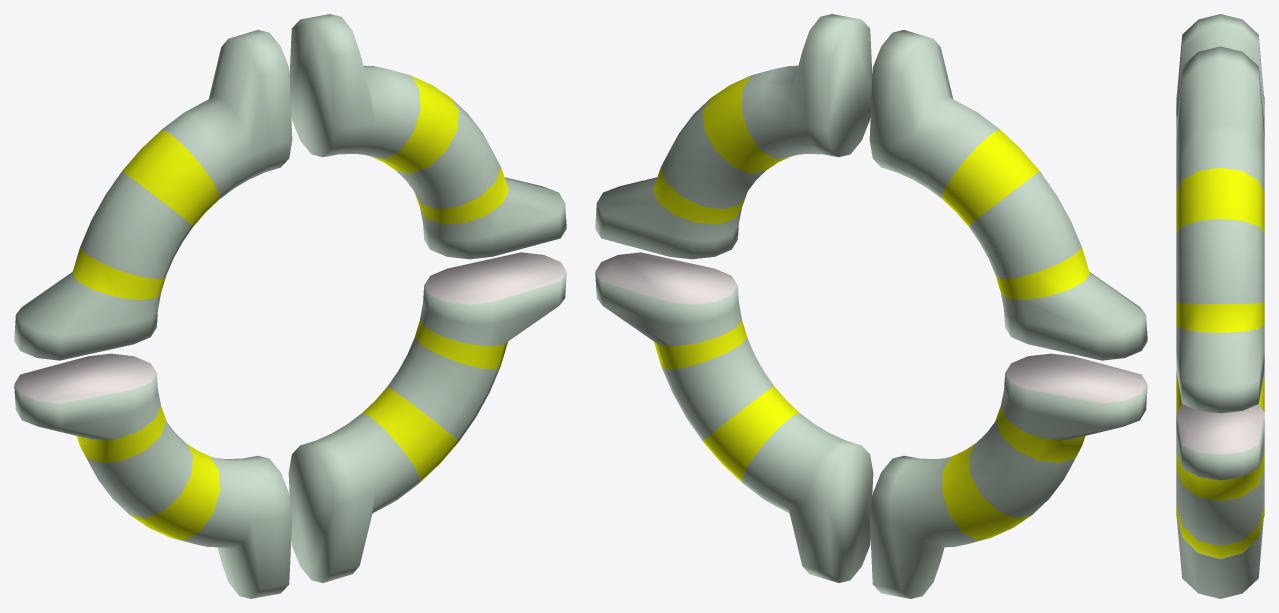
Rendered from Goal02.fbx.
The picture shows the model from 3 angles, left to right: view 1: azimuth 30°, elevation 25°; view 2: azimuth 150°, elevation 25°; view 3: azimuth 270°, elevation 25°; orthographic projection. The views are drawn at different scales.
Visible parts, largest first — view 1: トーラス; view 2: トーラス; view 3: トーラス.
Part boxes in pixels (x1=…): トーラス: x1=14, y1=14, x2=566, y2=598; トーラス: x1=595, y1=14, x2=1147, y2=598; トーラス: x1=1176, y1=14, x2=1264, y2=598.
Size of the model in its own units: 282 by 278 by 41.24.
